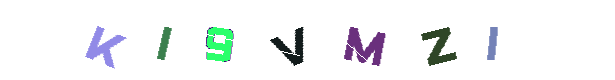9: (179, 0, 259, 80)
I: (169, 0, 249, 80), (371, 0, 451, 80)
K: (106, 0, 186, 80)
M: (317, 0, 397, 80)
V: (268, 0, 348, 80)
Z: (332, 0, 412, 80)
